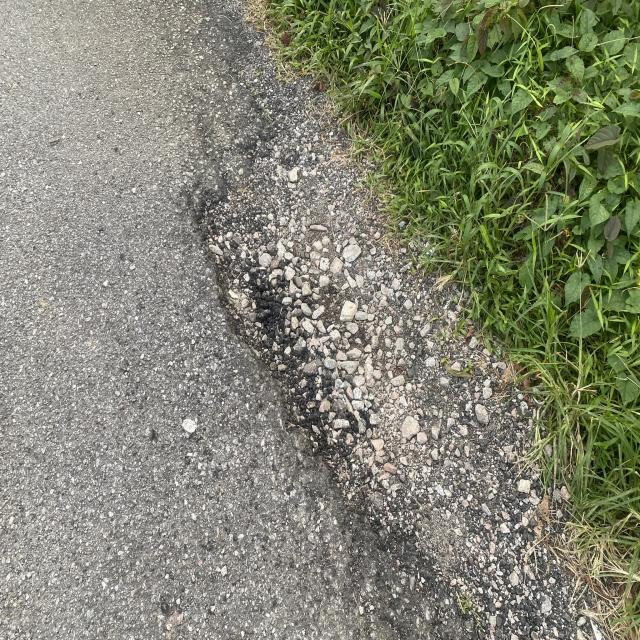Pothole: (150, 110, 392, 542)
